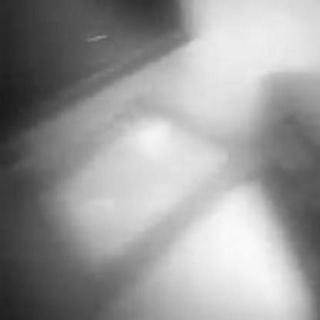other: (38, 112, 220, 250)
